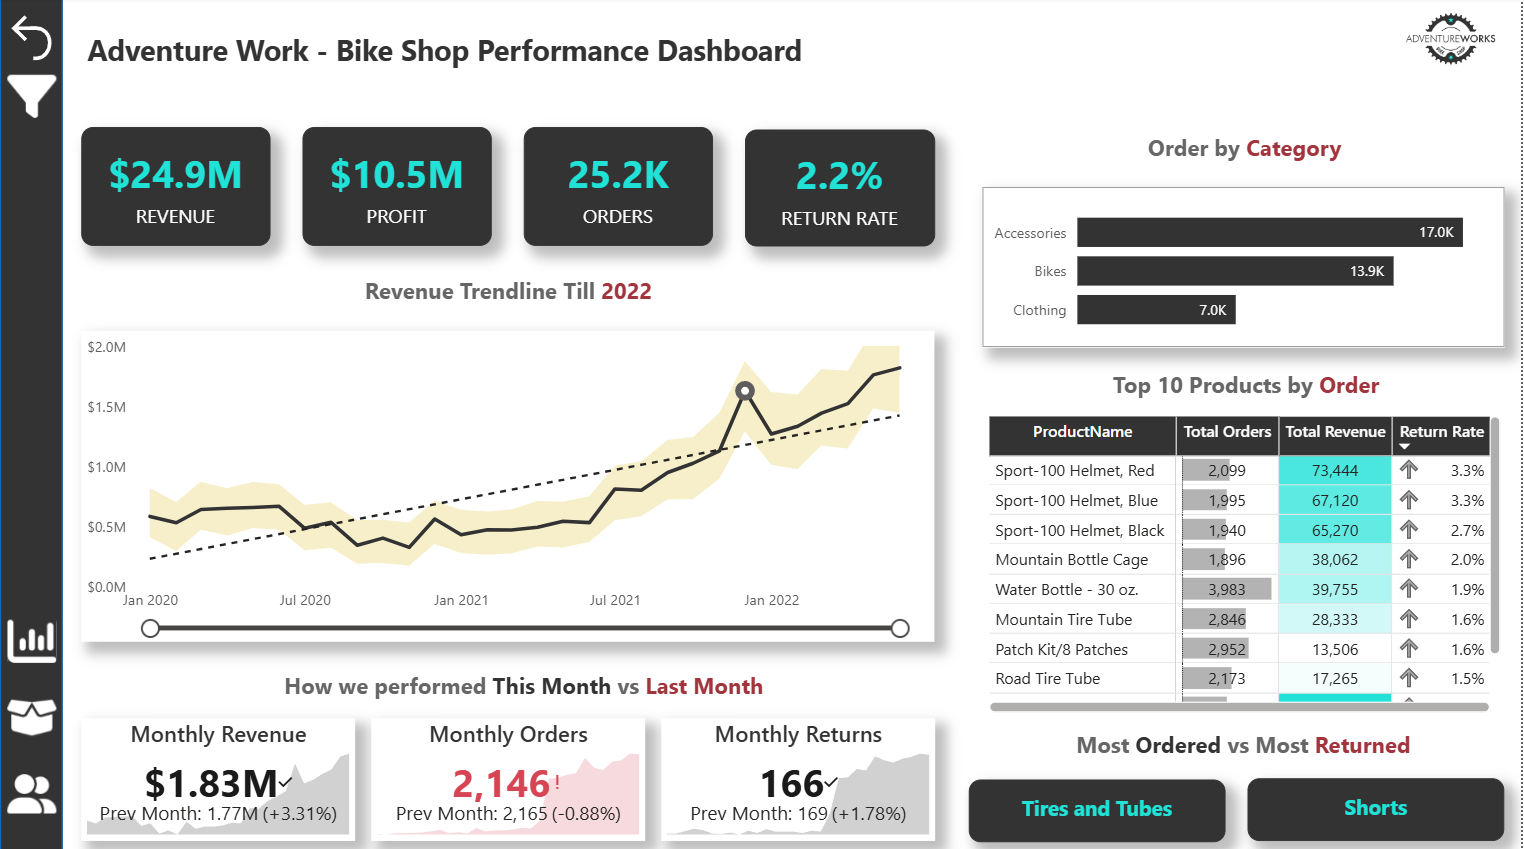

The dashboard page shown, as its layout file describes it:
{"tool":"powerbi","page":{"name":"Overview","canvas":[1280,720],"ordinal":0},"visuals":[{"type":"group","id":"g1","title":"Main Nav","box":[0,0,53,720.3],"z":0},{"type":"shape","box":[0,0,52.7,720.3],"z":0,"group":"g1"},{"type":"actionButton","box":[2.4,9.6,50.6,49.4],"z":1000,"group":"g1"},{"type":"image","box":[1174.8,11.8,92.4,47.4],"z":1000},{"type":"actionButton","box":[2.4,59,50.6,49.4],"z":2000,"group":"g1"},{"type":"card","fields":{"Values":["Measure_Table.Total Revenue"]},"box":[68.6,109.6,158.9,99.9],"z":2000},{"type":"card","fields":{"Values":["Measure_Table.Total Profit"]},"box":[254.7,109.6,158.9,99.9],"z":3000},{"type":"actionButton","box":[2,517.8,50.6,49.4],"z":3000,"group":"g1"},{"type":"card","fields":{"Values":["Measure_Table.Total Orders"]},"box":[440.7,109.6,158.9,99.9],"z":4000},{"type":"actionButton","box":[2,581.6,50.6,49.4],"z":4000,"group":"g1"},{"type":"card","fields":{"Values":["Measure_Table.Return Rate"]},"box":[626.8,111.7,159.6,98.7],"z":5000},{"type":"actionButton","box":[2,645.4,50.6,49.4],"z":5000,"group":"g1"},{"type":"lineChart","fields":{"Category":["Calendar Lookup.Start Of Month.Variation.Date Hierarchy.Year","Calendar Lookup.Start Of Month.Variation.Date Hierarchy.Quarter","Calendar Lookup.Start Of Month.Variation.Date Hierarchy.Month","Calendar Lookup.Start Of Month.Variation.Date Hierarchy.Day"],"Y":["Measure_Table.Total Revenue"]},"box":[68.6,280.6,717.7,261.3],"z":6000},{"type":"textbox","box":[242,228.8,372.1,39.7],"z":7000},{"type":"kpi","title":"Monthly Revenue","fields":{"Indicator":["Measure_Table.Total Revenue"],"TrendLine":["Calendar Lookup.Start Of Month"],"Goal":["Measure_Table.PM Revenue"]},"box":[68.2,607,230.7,103],"z":8000},{"type":"kpi","title":"Monthly Orders","fields":{"TrendLine":["Calendar Lookup.Start Of Month"],"Indicator":["Measure_Table.Total Orders"],"Goal":["Measure_Table.PM Orders"]},"box":[312,607,230.7,103],"z":9000},{"type":"kpi","title":"Monthly Returns","fields":{"TrendLine":["Calendar Lookup.Start Of Month"],"Indicator":["Measure_Table.Total Returns"],"Goal":["Measure_Table.PM Returns"]},"box":[555.7,607,230.7,103],"z":10000},{"type":"textbox","box":[183,561.1,515.4,39.7],"z":11000},{"type":"clusteredBarChart","fields":{"Y":["Measure_Table.Total Orders"],"Category":["Product Category.CategoryName"]},"box":[826.6,159.9,439.4,135],"z":12000},{"type":"textbox","box":[861,109,371.9,39.1],"z":13000},{"type":"pivotTable","fields":{"Rows":["Product Lookup.ProductName"],"Values":["Measure_Table.Total Orders","Measure_Table.Total Revenue","Measure_Table.Return Rate"]},"box":[827.2,348,439.5,258.9],"z":14000},{"type":"textbox","box":[862.2,308.3,372.1,39.7],"z":15000},{"type":"card","fields":{"Values":["Min(Product Subcategories.SubcategoryName)"]},"box":[815,658,215.7,52.7],"z":16000},{"type":"textbox","box":[826.9,610.4,439,40.5],"z":17000},{"type":"textbox","box":[68.6,22.9,718.9,51.8],"z":18000},{"type":"card","fields":{"Values":["Min(Product Subcategories.SubcategoryName)"]},"box":[1049.6,657.1,216.2,52.6],"z":20000}]}

Visuals, with their boxes on the page's 1280x720 design canvas (x1, y1, x2, y2). These are canvas units, not pixel positions in the 1524x849 screenshot, which may show the page scaled, cropped or inside an application window:
"Main Nav" group: 0,0,53,720
shape: 0,0,53,720
actionButton: 2,10,53,59
image: 1175,12,1267,59
actionButton: 2,59,53,108
card - Measure_Table.Total Revenue: 69,110,228,210
card - Measure_Table.Total Profit: 255,110,414,210
actionButton: 2,518,53,567
card - Measure_Table.Total Orders: 441,110,600,210
actionButton: 2,582,53,631
card - Measure_Table.Return Rate: 627,112,786,210
actionButton: 2,645,53,695
lineChart - Calendar Lookup.Start Of Month.Variation.Date Hierarchy.Year x Calendar Lookup.Start Of Month.Variation.Date Hierarchy.Quarter: 69,281,786,542
textbox: 242,229,614,268
"Monthly Revenue" kpi: 68,607,299,710
"Monthly Orders" kpi: 312,607,543,710
"Monthly Returns" kpi: 556,607,786,710
textbox: 183,561,698,601
clusteredBarChart - Measure_Table.Total Orders x Product Category.CategoryName: 827,160,1266,295
textbox: 861,109,1233,148
pivotTable - Product Lookup.ProductName x Measure_Table.Total Orders: 827,348,1267,607
textbox: 862,308,1234,348
card - Min(Product Subcategories.SubcategoryName): 815,658,1031,711
textbox: 827,610,1266,651
textbox: 69,23,788,75
card - Min(Product Subcategories.SubcategoryName): 1050,657,1266,710
